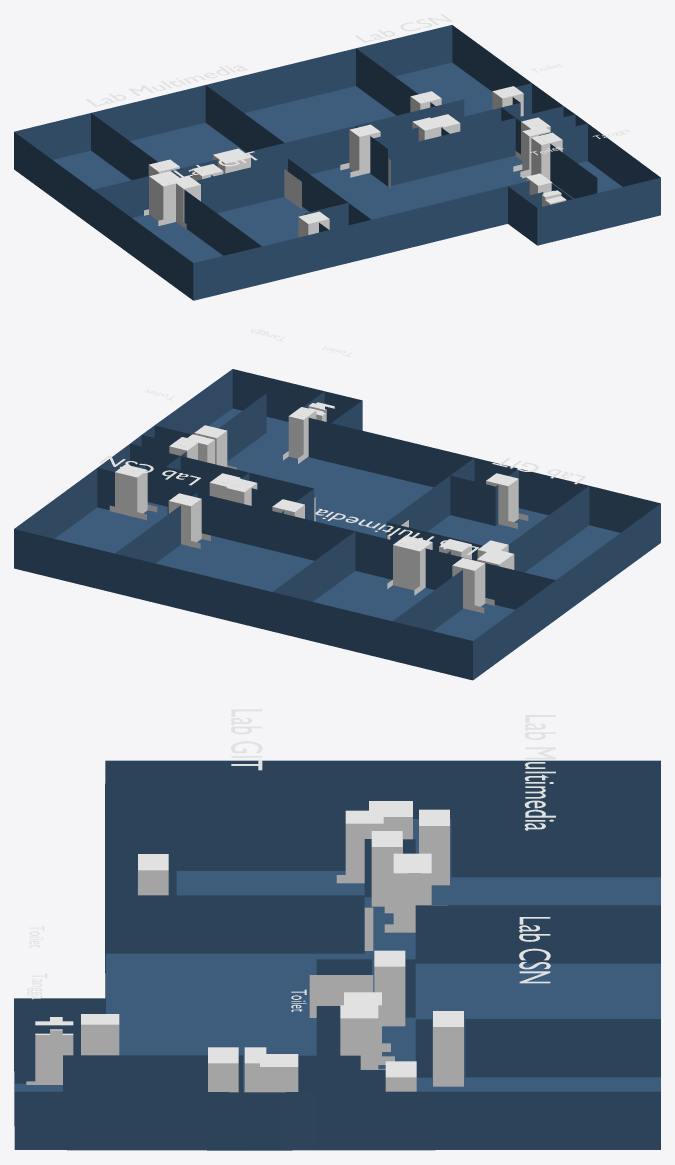
File: lantai1.glb
3 views of the same model, one above another, from view 1: azimuth 30°, elevation 25°; view 2: azimuth 150°, elevation 25°; view 3: azimuth 270°, elevation 25° (orthographic). The views are drawn at different scales.
Parts seen in each view (by area): view 1: Plane.002, CTRL_Hole.003, CTRL_Hole.007, CTRL_Hole.013, Text, CTRL_Baseboard.015, CTRL_Hole.004, CTRL_Hole.001, CTRL_Hole.010, CTRL_Hole.005, CTRL_Hole.012; view 2: Plane.002, CTRL_Hole.001, CTRL_Hole.010, CTRL_Hole, CTRL_Hole.005, CTRL_Hole.014, CTRL_Hole.006, Text, CTRL_Hole.013, CTRL_Hole.008; view 3: Plane.002, CTRL_Hole.006, CTRL_Baseboard.015, CTRL_Hole.001, CTRL_Hole.009, CTRL_Hole.007, CTRL_Hole, CTRL_Hole.002, CTRL_Hole.015, CTRL_Hole.004, CTRL_Hole.014, Text (+10 smaller).
Boxes of the visible parts, <box> form: Plane.002: <box>14,25,660,300</box>; CTRL_Hole.003: <box>149,171,180,224</box>; CTRL_Hole.007: <box>349,124,380,175</box>; CTRL_Hole.013: <box>531,132,562,176</box>; Text: <box>86,65,247,106</box>; CTRL_Baseboard.015: <box>284,159,390,209</box>; CTRL_Hole.004: <box>176,176,200,221</box>; CTRL_Hole.001: <box>213,148,250,173</box>; CTRL_Hole.010: <box>492,86,523,116</box>; CTRL_Hole.005: <box>298,211,329,237</box>; CTRL_Hole.012: <box>522,126,550,171</box>; Plane.002: <box>14,369,660,680</box>; CTRL_Hole.001: <box>393,535,432,590</box>; CTRL_Hole.010: <box>115,464,147,516</box>; CTRL_Hole: <box>452,558,485,606</box>; CTRL_Hole.005: <box>486,473,518,524</box>; CTRL_Hole.014: <box>288,407,316,458</box>; CTRL_Hole.006: <box>168,493,201,542</box>; Text: <box>315,508,478,554</box>; CTRL_Hole.013: <box>194,425,227,466</box>; CTRL_Hole.008: <box>226,478,257,505</box>; Plane.002: <box>14,760,660,1150</box>; CTRL_Hole.006: <box>433,1011,463,1086</box>; CTRL_Baseboard.015: <box>309,907,373,1017</box>; CTRL_Hole.001: <box>393,853,431,930</box>; CTRL_Hole.009: <box>340,1005,378,1069</box>; CTRL_Hole.007: <box>374,950,405,1026</box>; CTRL_Hole: <box>419,809,449,885</box>; CTRL_Hole.002: <box>371,831,402,906</box>; CTRL_Hole.015: <box>35,1021,73,1084</box>; CTRL_Hole.004: <box>345,810,383,883</box>; CTRL_Hole.014: <box>81,1014,119,1055</box>; Text: <box>524,715,555,830</box>.
Bounding box in the file's own units: 4.94 × 1.02 × 4.07.
